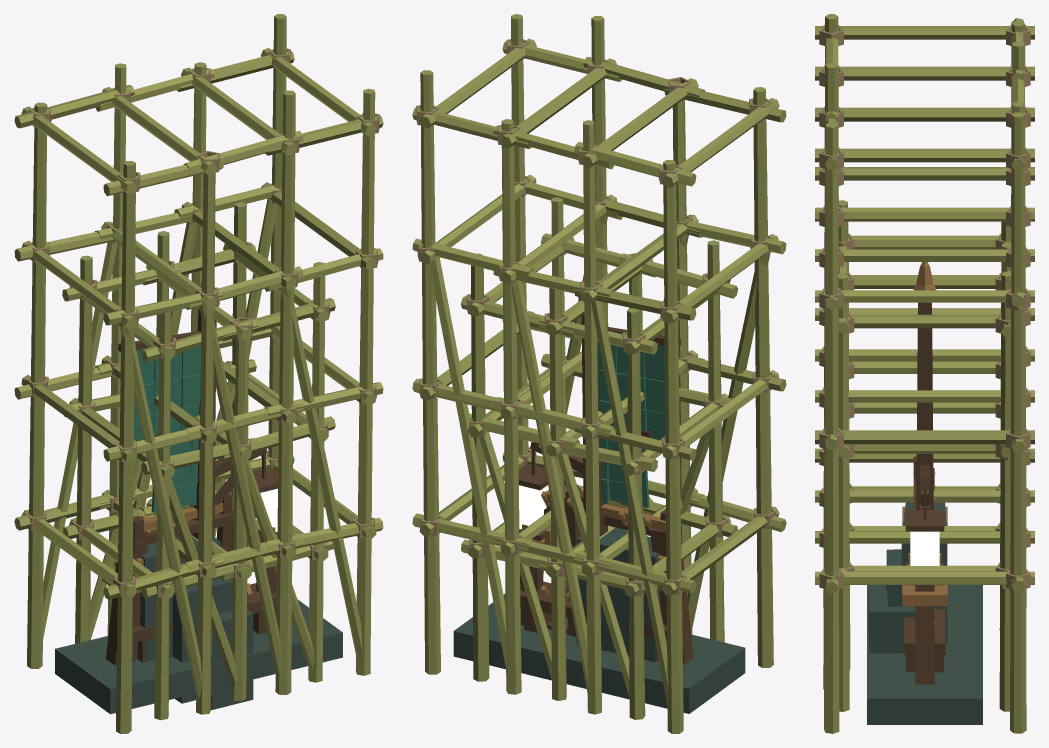
File: Windrift_Props.fbx
3 renders of one model, left to right at view 1: azimuth 30°, elevation 25°; view 2: azimuth 150°, elevation 25°; view 3: azimuth 270°, elevation 25°, orthographic. The views are drawn at different scales.
Visible parts, largest first — view 1: Windrift_Props_ScaffoldA__Bamboo, Windrift_Props_ScaffoldB__Bamboo, Windrift_Props_Cradle__Stone, Windrift_Props_Waymarker__Stone, Windrift_Props_BannerPole__Cloth, Windrift_Props_ScaffoldA__Rope, Windrift_Props_ScaffoldB__Rope, Windrift_Props_LanternPost__Timber, Windrift_Props_Cradle__Timber, Windrift_Props_WeaponRack__Timber, Windrift_Props_Bench__Timber, Windrift_Props_BannerPole__Timber (+1 smaller); view 2: Windrift_Props_ScaffoldA__Bamboo, Windrift_Props_ScaffoldB__Bamboo, Windrift_Props_Cradle__Stone, Windrift_Props_BannerPole__Cloth, Windrift_Props_ScaffoldA__Rope, Windrift_Props_Waymarker__Stone, Windrift_Props_ScaffoldB__Rope, Windrift_Props_Cradle__Timber, Windrift_Props_Bench__Timber, Windrift_Props_LanternPost__Timber, Windrift_Props_BannerPole__Timber, Windrift_Props_Cradle__Bronze (+2 smaller); view 3: Windrift_Props_ScaffoldA__Bamboo, Windrift_Props_ScaffoldB__Bamboo, Windrift_Props_Cradle__Stone, Windrift_Props_ScaffoldA__Rope, Windrift_Props_Waymarker__Stone, Windrift_Props_LanternPost__Timber, Windrift_Props_BannerPole__Timber, Windrift_Props_Cradle__Timber, Windrift_Props_ScaffoldB__Rope, Windrift_Props_Bench__Timber, Windrift_Props_Cradle__Bronze, Windrift_Props_LanternPost__Lamp (+1 smaller).
Boxes of the visible parts, x1,y1,x2,y2 form: Windrift_Props_ScaffoldA__Bamboo: [14, 14, 383, 733]; Windrift_Props_ScaffoldB__Bamboo: [62, 202, 335, 720]; Windrift_Props_Cradle__Stone: [55, 599, 342, 714]; Windrift_Props_Waymarker__Stone: [140, 537, 253, 709]; Windrift_Props_BannerPole__Cloth: [134, 346, 200, 512]; Windrift_Props_ScaffoldA__Rope: [24, 48, 379, 596]; Windrift_Props_ScaffoldB__Rope: [71, 242, 330, 597]; Windrift_Props_LanternPost__Timber: [214, 449, 278, 542]; Windrift_Props_Cradle__Timber: [106, 531, 292, 665]; Windrift_Props_WeaponRack__Timber: [133, 511, 258, 659]; Windrift_Props_Bench__Timber: [132, 583, 276, 662]; Windrift_Props_BannerPole__Timber: [118, 309, 216, 538]; Windrift_Props_ScaffoldA__Bamboo: [412, 14, 786, 733]; Windrift_Props_ScaffoldB__Bamboo: [460, 197, 738, 719]; Windrift_Props_Cradle__Stone: [453, 593, 745, 713]; Windrift_Props_BannerPole__Cloth: [597, 341, 665, 507]; Windrift_Props_ScaffoldA__Rope: [416, 39, 776, 594]; Windrift_Props_Waymarker__Stone: [576, 527, 659, 662]; Windrift_Props_ScaffoldB__Rope: [466, 238, 728, 595]; Windrift_Props_Cradle__Timber: [520, 528, 693, 664]; Windrift_Props_Bench__Timber: [520, 581, 666, 661]; Windrift_Props_LanternPost__Timber: [518, 442, 583, 541]; Windrift_Props_BannerPole__Timber: [581, 314, 681, 536]; Windrift_Props_Cradle__Bronze: [522, 490, 697, 590]; Windrift_Props_ScaffoldA__Bamboo: [815, 14, 1034, 733]; Windrift_Props_ScaffoldB__Bamboo: [838, 200, 1011, 711]; Windrift_Props_Cradle__Stone: [867, 585, 982, 724]; Windrift_Props_ScaffoldA__Rope: [819, 25, 1030, 589]; Windrift_Props_Waymarker__Stone: [868, 502, 947, 653]; Windrift_Props_LanternPost__Timber: [905, 453, 944, 565]; Windrift_Props_BannerPole__Timber: [916, 289, 933, 509]; Windrift_Props_Cradle__Timber: [915, 468, 934, 684]; Windrift_Props_ScaffoldB__Rope: [838, 233, 1011, 571]; Windrift_Props_Bench__Timber: [904, 609, 945, 672]; Windrift_Props_Cradle__Bronze: [902, 506, 947, 606]; Windrift_Props_LanternPost__Lamp: [910, 531, 939, 565].
Size of the model in its own units: 8.01 by 17.2 by 5.3.
